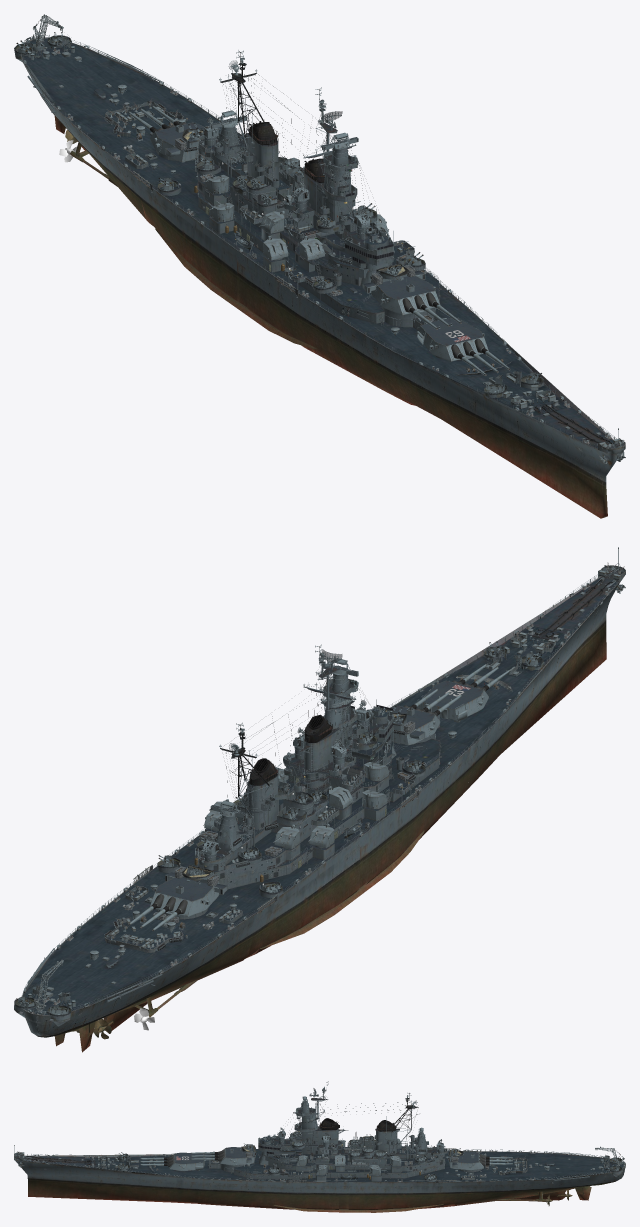
Rendered from uss_missouri_world_of_warships-maximum-compressed.glb.
3 views of the same model, one above another, from view 1: azimuth 30°, elevation 25°; view 2: azimuth 150°, elevation 25°; view 3: azimuth 270°, elevation 25° (orthographic). The views are drawn at different scales.
Parts seen in each view (by area): view 1: Object_70, Object_66, Object_65, Object_68, Object_101, Object_64, Object_72, Object_63, Object_69, Object_86, Object_113, Object_38; view 2: Object_65, Object_68, Object_70, Object_66, Object_101, Object_64, Object_63, Object_72, Object_113, Object_69, Object_86; view 3: Object_70, Object_65, Object_66, Object_68, Object_101, Object_69, Object_63, Object_64, Object_72, Object_86, Object_114, Object_38.
Boxes of the visible parts, box(x1,y1,x2,y2) form: Object_70: box(246, 89, 473, 390); Object_66: box(394, 329, 625, 518); Object_65: box(14, 35, 618, 448); Object_68: box(147, 52, 303, 308); Object_101: box(128, 105, 510, 375); Object_64: box(248, 89, 466, 330); Object_72: box(148, 52, 296, 248); Object_63: box(136, 147, 358, 231); Object_69: box(237, 210, 302, 314); Object_86: box(116, 106, 620, 446); Object_113: box(203, 172, 234, 221); Object_38: box(175, 124, 414, 292); Object_65: box(14, 567, 619, 1052); Object_68: box(147, 724, 359, 956); Object_70: box(283, 646, 474, 888); Object_66: box(394, 549, 625, 775); Object_101: box(128, 664, 510, 931); Object_64: box(285, 646, 466, 829); Object_63: box(136, 687, 359, 958); Object_72: box(148, 724, 357, 900); Object_113: box(273, 823, 334, 849); Object_69: box(289, 773, 368, 895); Object_86: box(110, 570, 619, 948); Object_70: box(219, 1089, 348, 1212); Object_65: box(15, 1102, 625, 1205); Object_66: box(14, 1146, 198, 1203); Object_68: box(348, 1093, 448, 1212); Object_101: box(140, 1147, 512, 1170); Object_69: box(339, 1147, 351, 1212); Object_63: box(443, 1150, 454, 1206); Object_64: box(228, 1089, 344, 1181); Object_72: box(347, 1098, 444, 1181); Object_86: box(22, 1124, 524, 1177); Object_114: box(369, 1156, 407, 1175); Object_38: box(230, 1145, 474, 1160).
Bounding box in the file's own units: 2.26 × 3.78 × 18.04.
97 materials, 95 textured.
